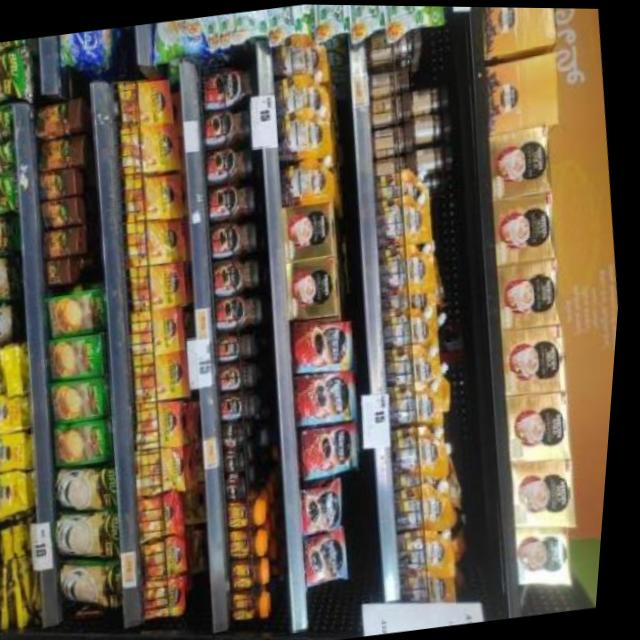Coffee: (296, 365, 365, 426), (302, 420, 367, 480), (294, 316, 361, 373), (135, 350, 200, 404), (138, 444, 203, 498), (119, 122, 185, 175), (124, 170, 189, 222), (117, 76, 177, 130), (131, 260, 194, 311), (131, 305, 194, 356), (126, 215, 190, 265), (199, 61, 261, 111), (308, 527, 360, 585), (137, 398, 194, 449), (304, 480, 355, 534), (142, 491, 191, 540), (146, 533, 196, 581), (149, 574, 201, 618), (210, 217, 263, 260), (212, 253, 265, 296), (216, 289, 270, 331), (205, 143, 258, 185), (208, 180, 260, 222), (203, 106, 254, 148), (238, 586, 282, 622), (236, 555, 280, 590), (218, 329, 260, 363), (221, 359, 261, 392), (234, 526, 274, 559), (233, 497, 273, 529), (224, 390, 263, 420), (230, 445, 256, 472), (232, 474, 258, 499), (228, 421, 251, 443)
